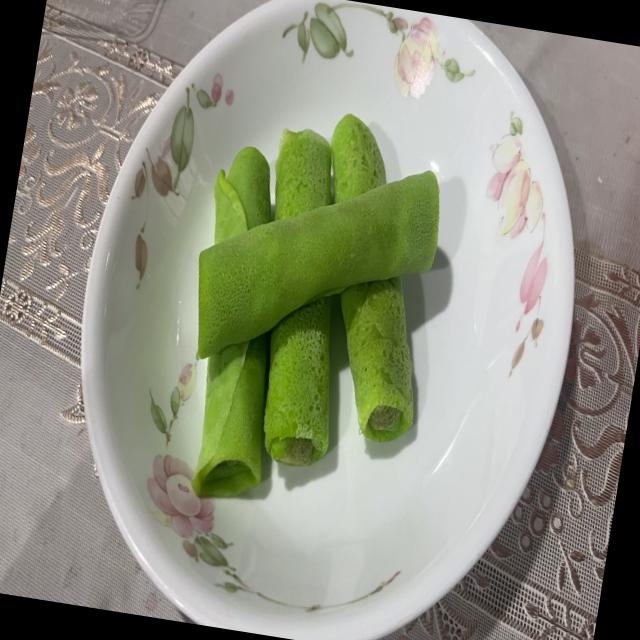Kuih-Ketayap: (198, 171, 440, 358), (341, 276, 414, 443), (192, 337, 266, 497), (264, 296, 331, 467), (214, 147, 271, 245), (275, 129, 332, 221), (331, 113, 386, 204)
